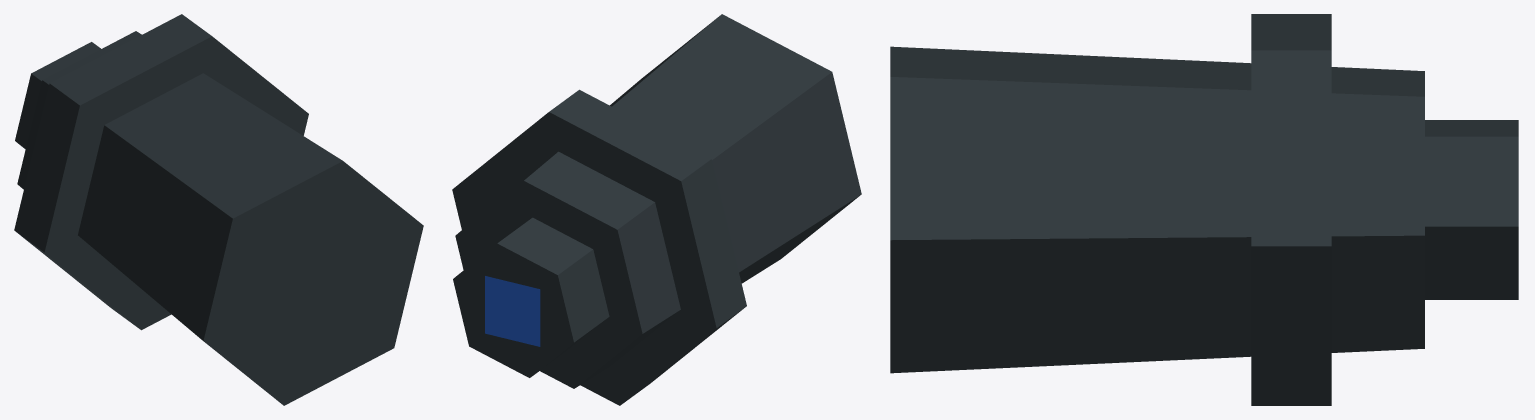
3 renders of one model, left to right at view 1: azimuth 30°, elevation 25°; view 2: azimuth 150°, elevation 25°; view 3: azimuth 270°, elevation 25°, orthographic. The views are drawn at different scales.
Visible parts, largest first — view 1: mount; view 2: mount; view 3: mount.
Part boxes in pixels (x1,y1,x2,y2): mount: (14, 14, 423, 405); mount: (452, 14, 861, 405); mount: (890, 14, 1518, 405).
Bounding box in the file's own units: 6.03 × 6.03 × 9.43.
